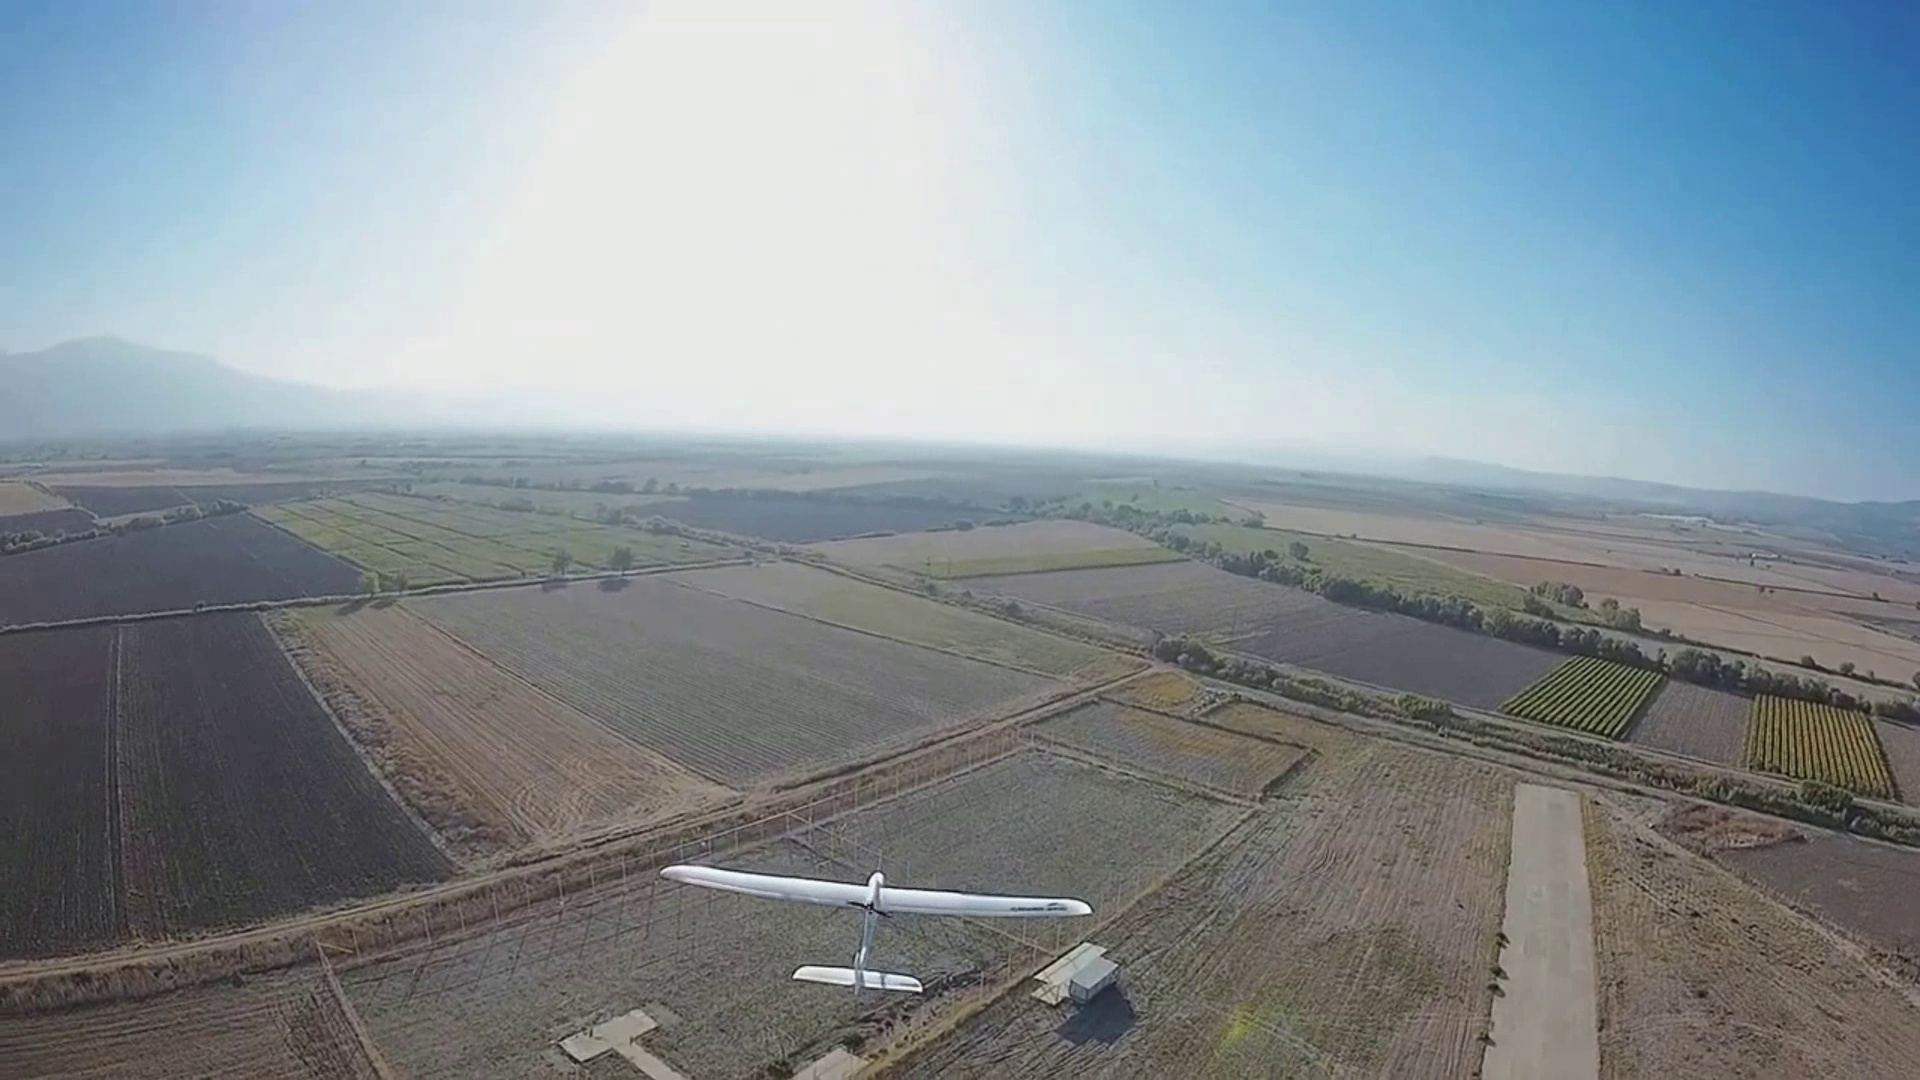airplane: (661, 851, 1137, 1034)
